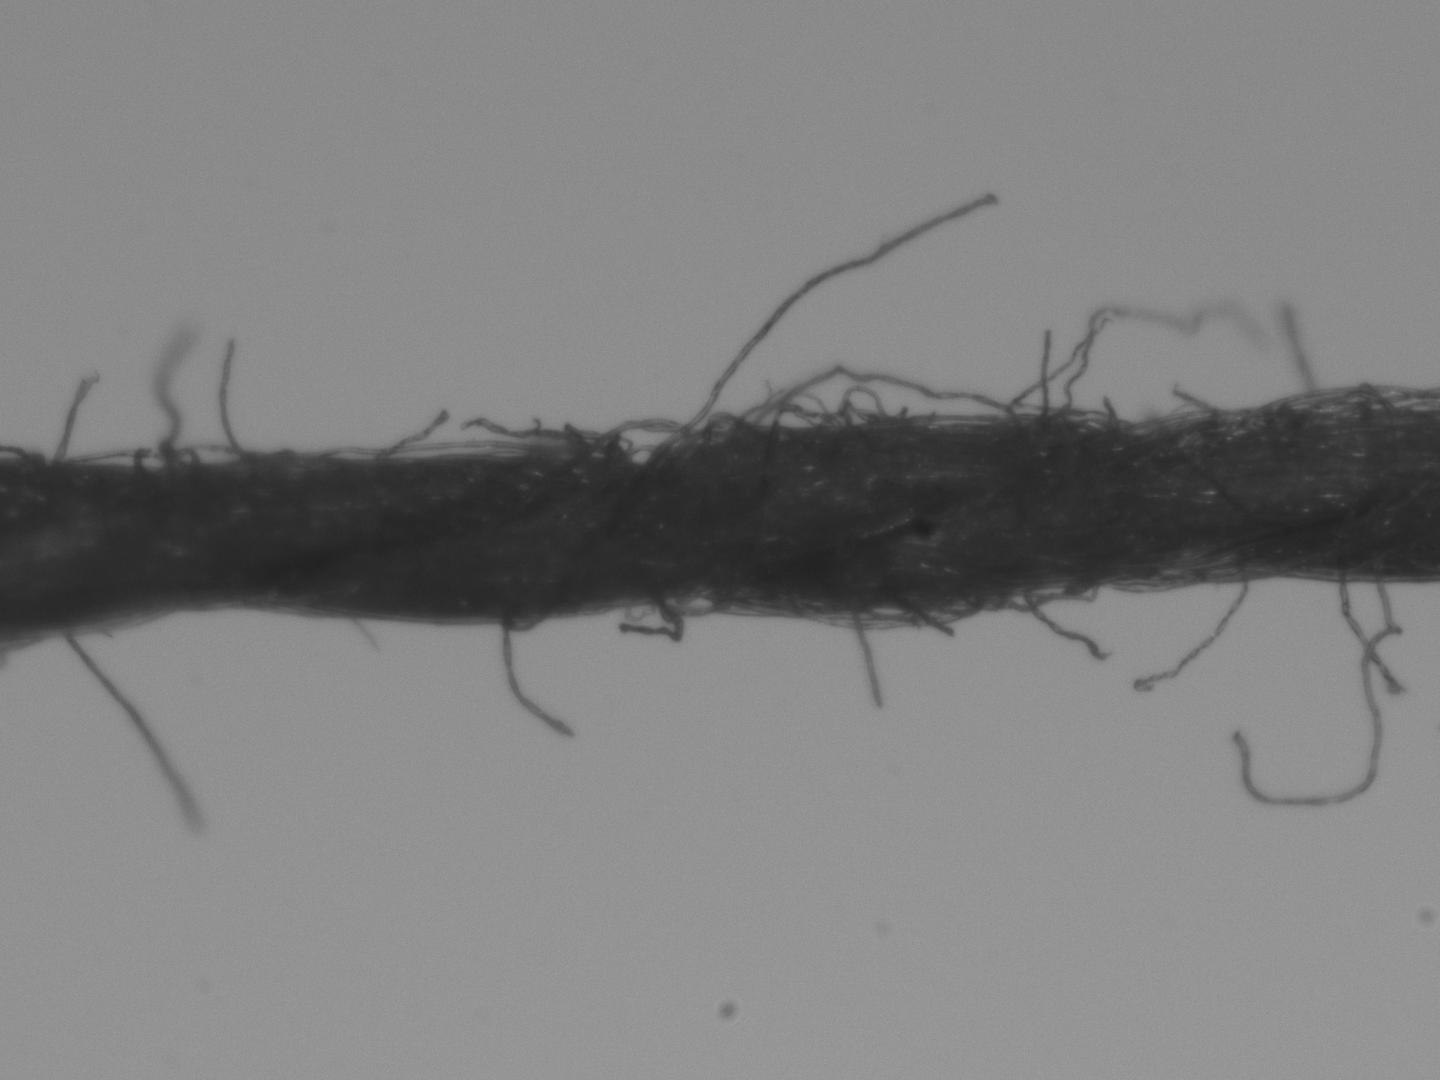loop_fiber: (753, 363, 1020, 431), (807, 596, 982, 632), (576, 419, 694, 461), (320, 439, 543, 461), (68, 446, 173, 471), (1000, 585, 1096, 613), (177, 441, 253, 466), (657, 588, 720, 614)
protruding_fiber: (650, 192, 999, 456), (1233, 581, 1399, 807), (57, 625, 202, 830), (1133, 584, 1246, 693), (497, 616, 577, 744), (45, 373, 95, 474), (217, 344, 238, 458), (1037, 329, 1053, 422)
